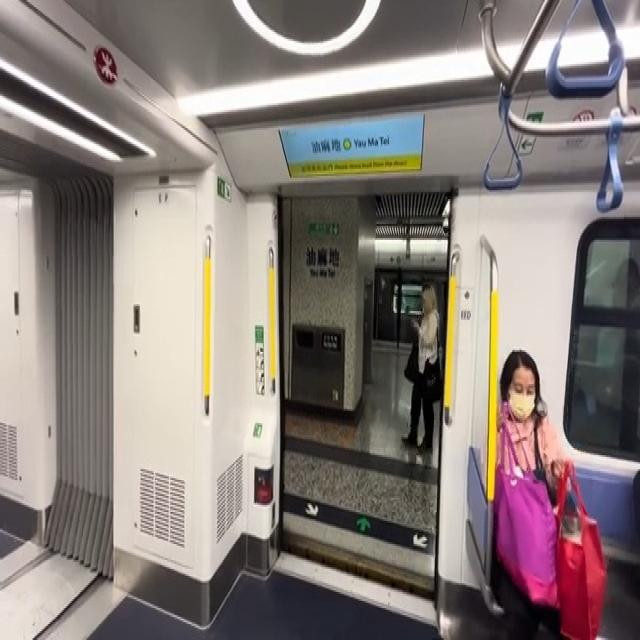bus-door: (269, 190, 456, 632)
